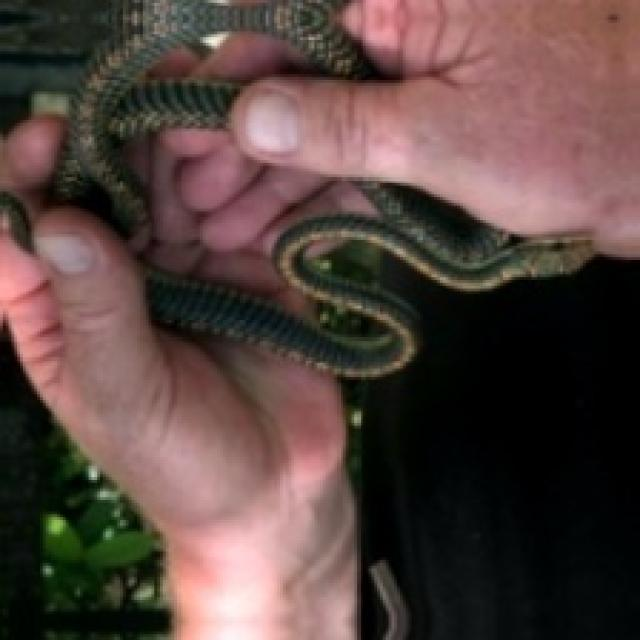paradise tree snake: (0, 0, 591, 374)
